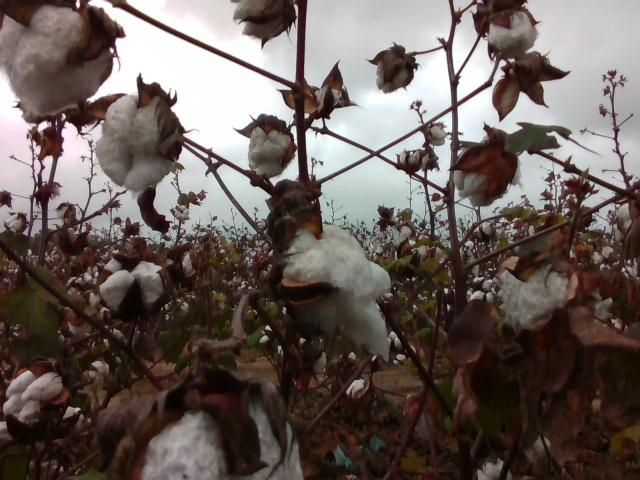cotton_ready: (283, 222, 395, 364), (139, 395, 305, 480), (1, 3, 111, 118), (96, 92, 184, 195), (496, 258, 568, 336), (449, 142, 519, 208), (3, 367, 66, 430), (101, 261, 169, 310), (478, 7, 540, 56), (233, 0, 298, 46), (246, 121, 296, 180), (376, 52, 418, 95), (612, 198, 640, 249)
